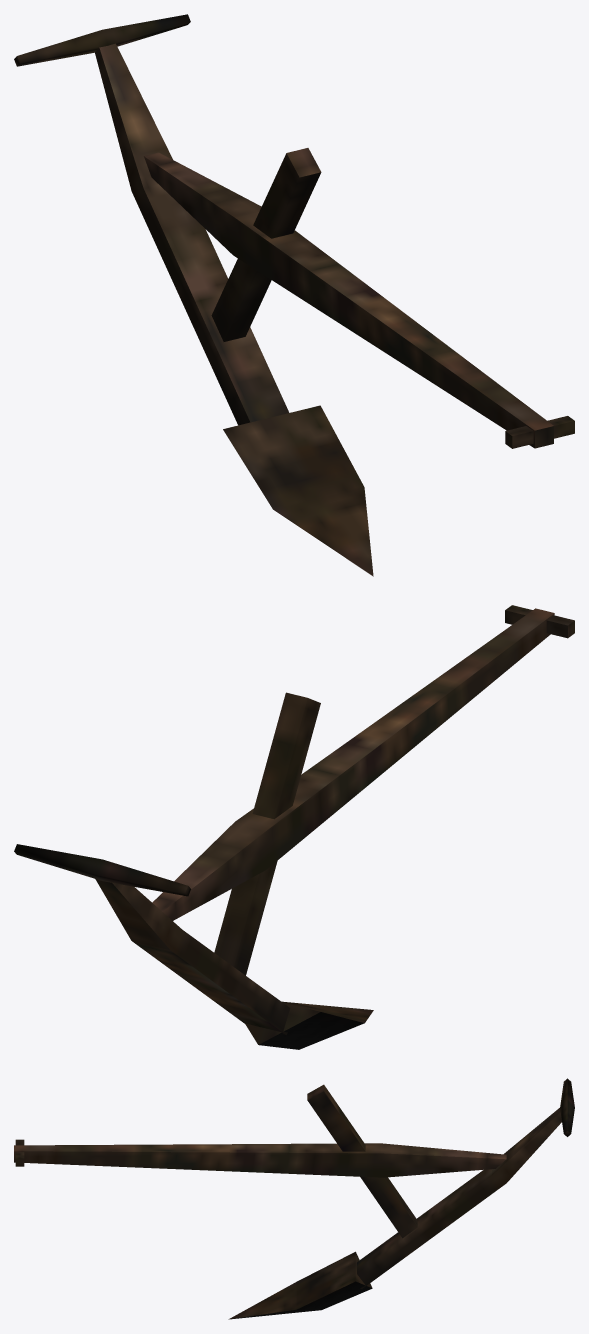
The model's file is b_general_obj_10_12_01.glb.
The picture shows the model from 3 angles, top to bottom: view 1: azimuth 30°, elevation 25°; view 2: azimuth 150°, elevation 25°; view 3: azimuth 270°, elevation 25°; orthographic projection. The views are drawn at different scales.
Visible parts, largest first — view 1: B_general_obj_06; view 2: B_general_obj_06; view 3: B_general_obj_06.
Boxes of the visible parts, x1,y1,x2,y2 form: B_general_obj_06: (14,14,574,576); B_general_obj_06: (14,605,574,1049); B_general_obj_06: (14,1078,574,1319).
Size of the model in its own units: 0.6113 by 1.26 by 2.77.
Materials: 1 (1 with a texture image).
